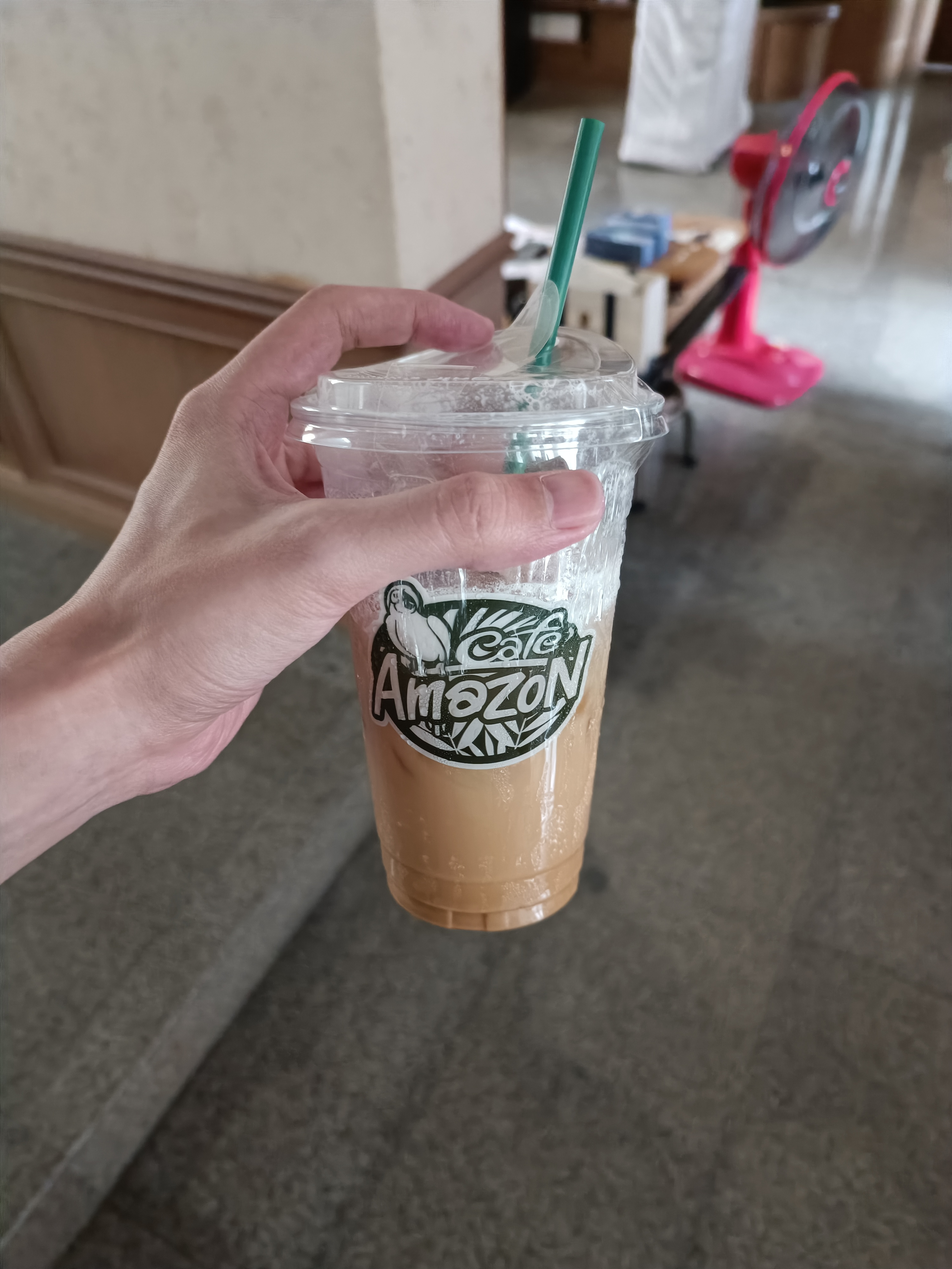plastic: (214, 92, 704, 952)
